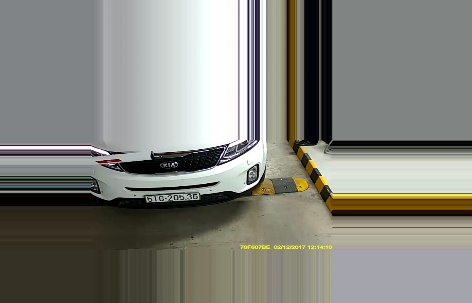plate: (142, 189, 202, 204)
